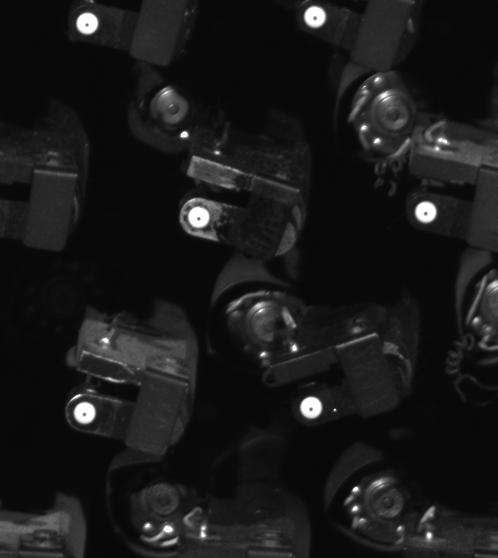fiber: (296, 1, 334, 35), (408, 195, 444, 228), (72, 6, 105, 41), (181, 202, 214, 236), (294, 392, 327, 425), (69, 398, 102, 430)
